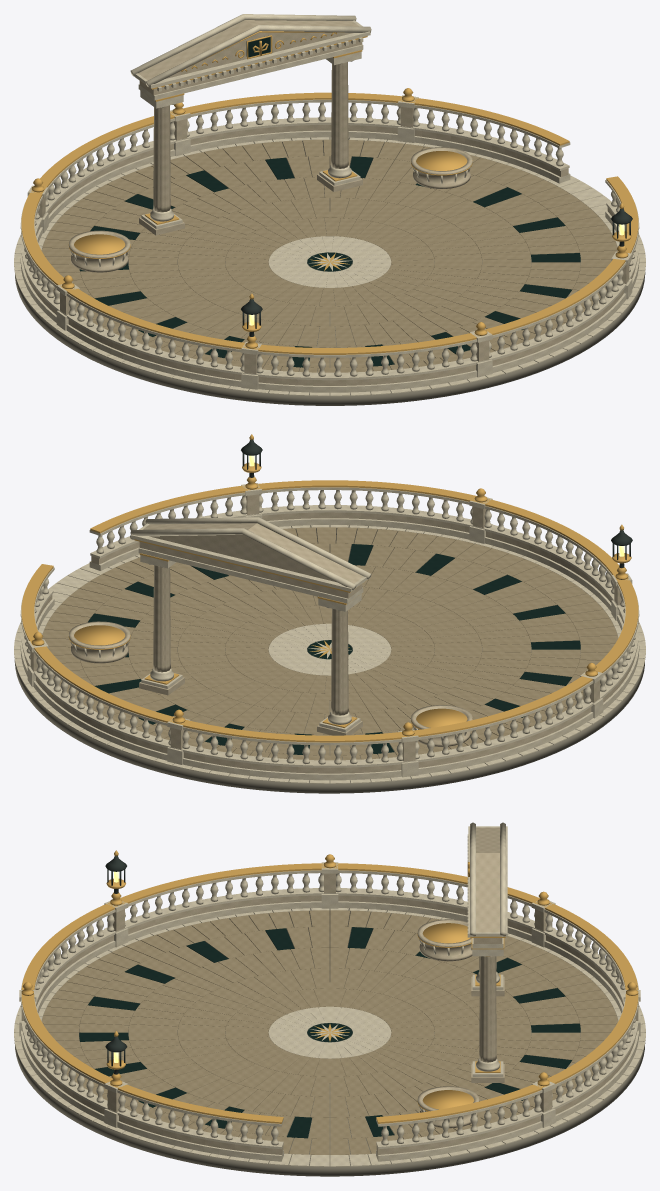
The model's file is arrival.glb.
The picture shows the model from 3 angles, top to bottom: view 1: azimuth 30°, elevation 25°; view 2: azimuth 150°, elevation 25°; view 3: azimuth 270°, elevation 25°; orthographic projection.
Parts seen in each view (by area): view 1: 01 Terrasse Arrival Dalles de Bourgogne.003, 02 Balustrade Arrival Pierre sculptee.006, 01 Terrasse Arrival Pierre sculptee.003, 02 Balustrade Arrival Bronze dore patine.006, 02 Balustrade Arrival Pierre sculptee.007, 02 Balustrade Arrival Calcaire creme.003, 01 Terrasse Arrival Joints et terre.003, 01 Terrasse Arrival Marbre vert.003, 03 Portique Arrival Calcaire creme.006, 03 Portique Arrival Pierre sculptee.006, 03 Portique Arrival Calcaire creme.007, 03 Portique Arrival Pierre sculptee.007 (+6 smaller); view 2: 01 Terrasse Arrival Dalles de Bourgogne.003, 02 Balustrade Arrival Pierre sculptee.006, 02 Balustrade Arrival Bronze dore patine.006, 01 Terrasse Arrival Pierre sculptee.003, 02 Balustrade Arrival Pierre sculptee.007, 02 Balustrade Arrival Calcaire creme.003, 01 Terrasse Arrival Joints et terre.003, 03 Portique Arrival Calcaire creme.006, 01 Terrasse Arrival Marbre vert.003, 03 Portique Arrival Pierre sculptee.006, 03 Portique Arrival Calcaire creme.007, 03 Portique Arrival Pierre sculptee.007 (+5 smaller); view 3: 01 Terrasse Arrival Dalles de Bourgogne.003, 02 Balustrade Arrival Pierre sculptee.006, 01 Terrasse Arrival Pierre sculptee.003, 02 Balustrade Arrival Bronze dore patine.006, 02 Balustrade Arrival Pierre sculptee.007, 02 Balustrade Arrival Calcaire creme.003, 01 Terrasse Arrival Joints et terre.003, 01 Terrasse Arrival Marbre vert.003, 03 Portique Arrival Calcaire creme.006, 04 Jardinières Arrival Calcaire creme.003, 03 Portique Arrival Calcaire creme.007, 03 Portique Arrival Pierre sculptee.007 (+4 smaller).
Boxes of the visible parts, x1=… form: 01 Terrasse Arrival Dalles de Bourgogne.003: x1=41, y1=139, x2=617, y2=372; 02 Balustrade Arrival Pierre sculptee.006: x1=20, y1=95, x2=639, y2=392; 01 Terrasse Arrival Pierre sculptee.003: x1=14, y1=137, x2=645, y2=396; 02 Balustrade Arrival Bronze dore patine.006: x1=21, y1=92, x2=638, y2=354; 02 Balustrade Arrival Pierre sculptee.007: x1=24, y1=102, x2=635, y2=376; 02 Balustrade Arrival Calcaire creme.003: x1=24, y1=107, x2=635, y2=385; 01 Terrasse Arrival Joints et terre.003: x1=15, y1=137, x2=645, y2=405; 01 Terrasse Arrival Marbre vert.003: x1=79, y1=156, x2=580, y2=367; 03 Portique Arrival Calcaire creme.006: x1=138, y1=20, x2=362, y2=235; 03 Portique Arrival Pierre sculptee.006: x1=134, y1=20, x2=370, y2=229; 03 Portique Arrival Calcaire creme.007: x1=153, y1=62, x2=348, y2=212; 03 Portique Arrival Pierre sculptee.007: x1=130, y1=14, x2=371, y2=221; 01 Terrasse Arrival Dalles de Bourgogne.003: x1=42, y1=527, x2=618, y2=760; 02 Balustrade Arrival Pierre sculptee.006: x1=20, y1=483, x2=639, y2=780; 02 Balustrade Arrival Bronze dore patine.006: x1=21, y1=480, x2=638, y2=742; 01 Terrasse Arrival Pierre sculptee.003: x1=14, y1=525, x2=645, y2=783; 02 Balustrade Arrival Pierre sculptee.007: x1=24, y1=490, x2=635, y2=764; 02 Balustrade Arrival Calcaire creme.003: x1=24, y1=494, x2=635, y2=773; 01 Terrasse Arrival Joints et terre.003: x1=14, y1=525, x2=644, y2=793; 03 Portique Arrival Calcaire creme.006: x1=139, y1=523, x2=363, y2=735; 01 Terrasse Arrival Marbre vert.003: x1=88, y1=544, x2=580, y2=754; 03 Portique Arrival Pierre sculptee.006: x1=131, y1=523, x2=367, y2=732; 03 Portique Arrival Calcaire creme.007: x1=153, y1=565, x2=348, y2=715; 03 Portique Arrival Pierre sculptee.007: x1=130, y1=517, x2=371, y2=724; 01 Terrasse Arrival Dalles de Bourgogne.003: x1=41, y1=910, x2=618, y2=1155; 02 Balustrade Arrival Pierre sculptee.006: x1=19, y1=862, x2=640, y2=1161; 01 Terrasse Arrival Pierre sculptee.003: x1=14, y1=908, x2=645, y2=1166; 02 Balustrade Arrival Bronze dore patine.006: x1=21, y1=863, x2=638, y2=1123; 02 Balustrade Arrival Pierre sculptee.007: x1=24, y1=873, x2=635, y2=1145; 02 Balustrade Arrival Calcaire creme.003: x1=21, y1=873, x2=638, y2=1154; 01 Terrasse Arrival Joints et terre.003: x1=14, y1=908, x2=645, y2=1176; 01 Terrasse Arrival Marbre vert.003: x1=79, y1=927, x2=580, y2=1138; 03 Portique Arrival Calcaire creme.006: x1=471, y1=827, x2=504, y2=1082; 04 Jardinières Arrival Calcaire creme.003: x1=417, y1=919, x2=479, y2=1128; 03 Portique Arrival Calcaire creme.007: x1=479, y1=956, x2=496, y2=1062; 03 Portique Arrival Pierre sculptee.007: x1=470, y1=822, x2=505, y2=1071.
Bounding box in the file's own units: 16 × 5.46 × 16.
Materials: 8 (4 with a texture image).
